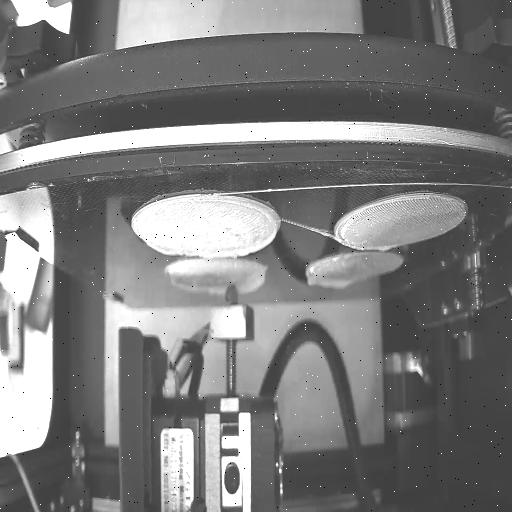over_extrusion: (210, 197, 280, 258), (302, 270, 352, 292), (234, 264, 268, 294), (146, 240, 178, 260), (206, 284, 222, 298), (375, 243, 393, 255)
